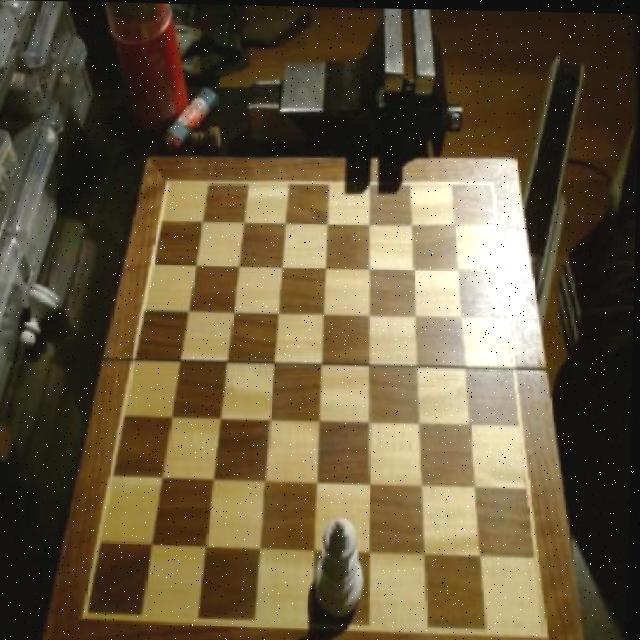white-bishop: (319, 510, 370, 618)
